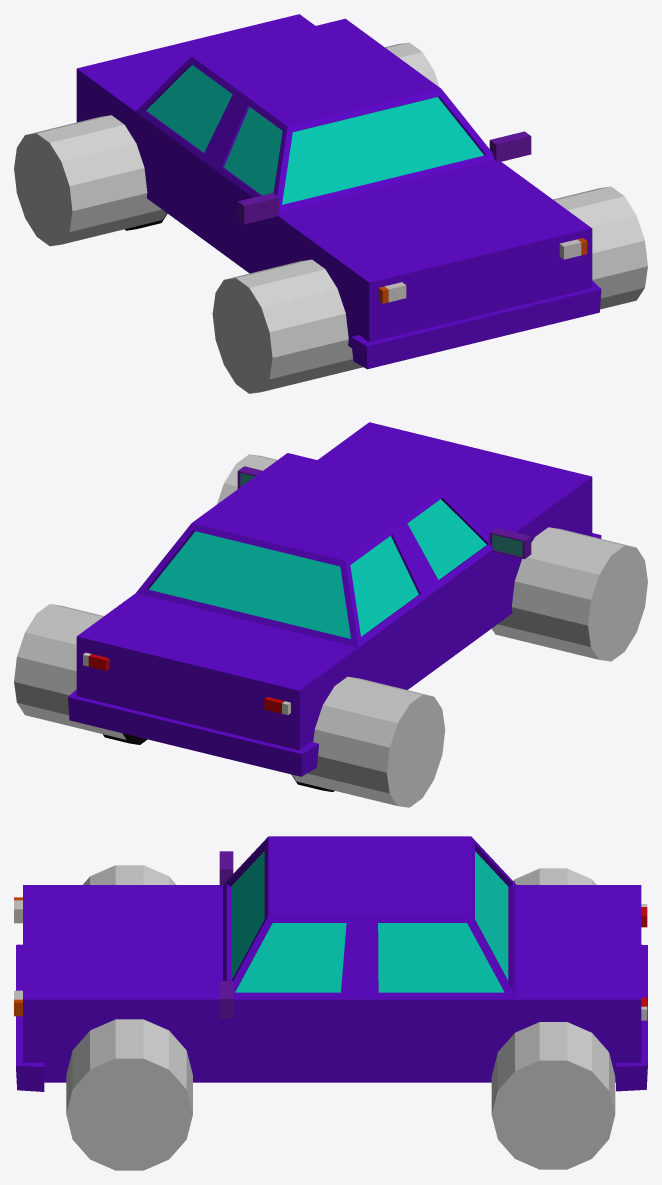
The model's file is Car.obj.
The picture shows the model from 3 angles, top to bottom: view 1: azimuth 30°, elevation 25°; view 2: azimuth 150°, elevation 25°; view 3: azimuth 270°, elevation 25°; orthographic projection. The views are drawn at different scales.
Visible parts, largest first — view 1: Cube, Cylinder, Cylinder.002, Cube.002_Cube.005, Cube.001; view 2: Cube, Cylinder.002, Cylinder, Cube.002_Cube.005, Cube.003_Cube.006; view 3: Cube, Cylinder, Cylinder.002, Cube.002_Cube.005, Cube.001.
Boxes of the visible parts, x1,y1,x2,y2 form: Cube: (76, 14, 601, 369); Cylinder: (212, 186, 647, 393); Cylinder.002: (14, 42, 439, 246); Cube.002_Cube.005: (237, 131, 531, 224); Cube.001: (378, 238, 587, 303); Cube: (68, 422, 601, 776); Cylinder.002: (14, 604, 445, 807); Cylinder: (217, 454, 647, 661); Cube.002_Cube.005: (237, 466, 531, 559); Cube.003_Cube.006: (83, 652, 290, 715); Cube: (16, 836, 647, 1091); Cylinder: (66, 865, 192, 1170); Cylinder.002: (491, 868, 615, 1169); Cube.002_Cube.005: (219, 851, 233, 1018); Cube.001: (14, 897, 22, 1016).
Size of the model in its own units: 552 by 268 by 765.
